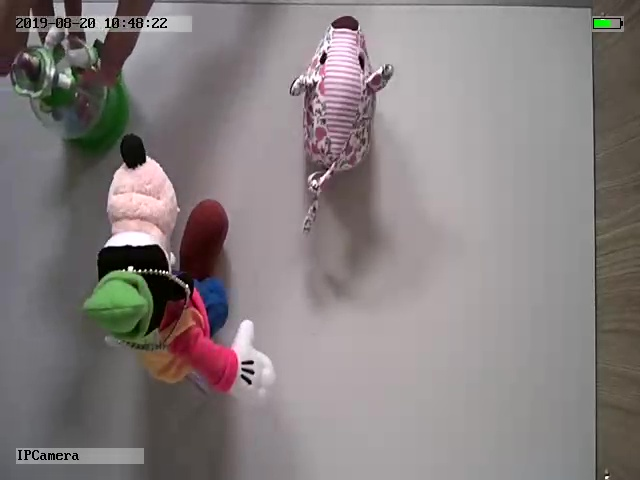goofy: (81, 133, 278, 406)
pig: (288, 15, 398, 236)
